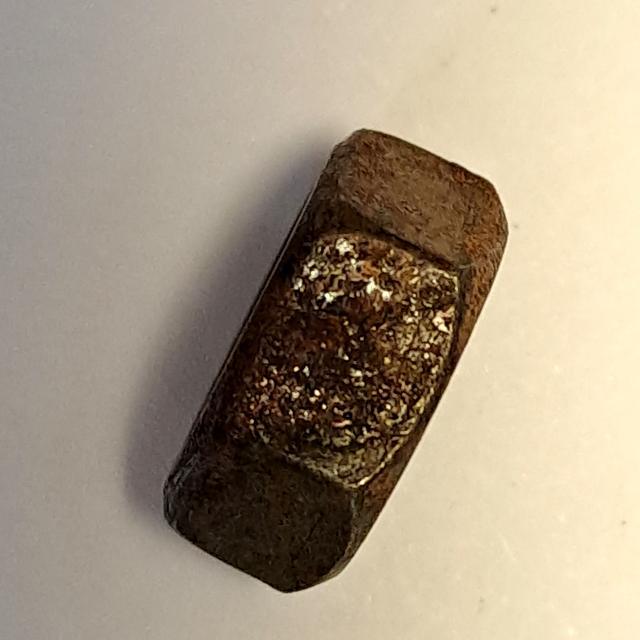Side_Rust: (152, 117, 518, 607)
